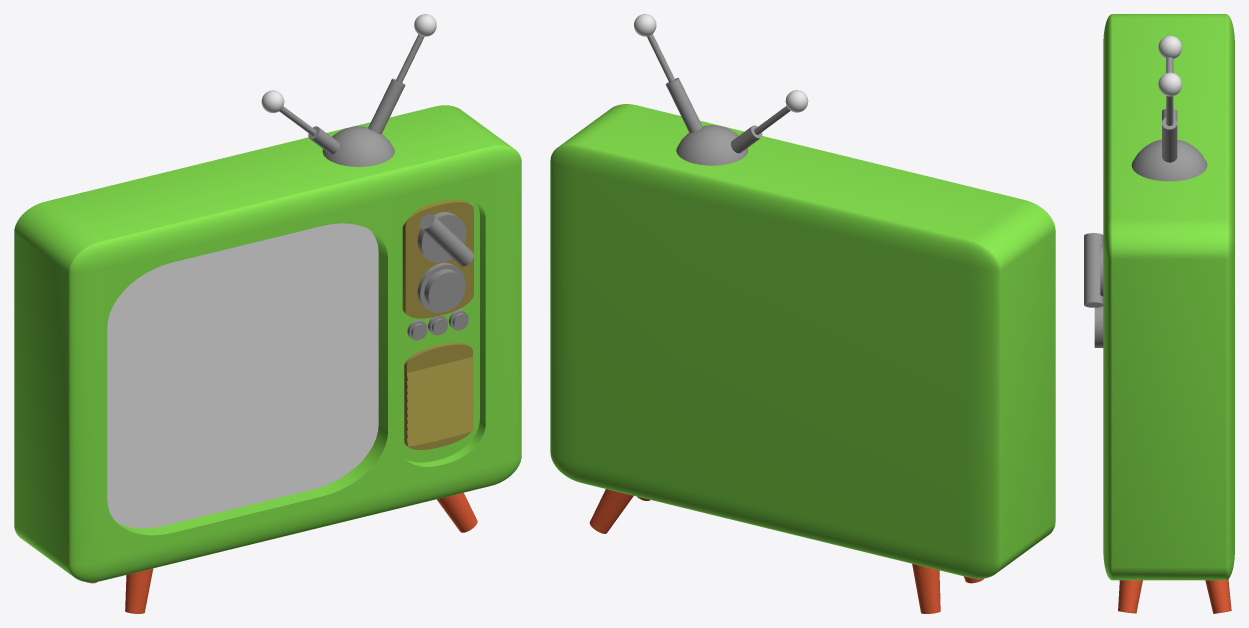
File: TV 3d cartoon.fbx
3 renders of one model, left to right at view 1: azimuth 30°, elevation 25°; view 2: azimuth 150°, elevation 25°; view 3: azimuth 270°, elevation 25°, orthographic. The views are drawn at different scales.
Parts seen in each view (by area): view 1: Cube, Plane, Sphere, Cylinder.007, Cylinder.001, Cylinder.008, Cylinder.006, Cylinder.002, Cylinder.004, Cylinder; view 2: Cube, Sphere, Cylinder.001, Cylinder.003, Cylinder.005, Cylinder; view 3: Cube, Sphere, Cylinder.008, Cylinder.001, Cylinder.005, Cylinder.004, Sphere.001, Sphere.002, Cylinder.007, Cylinder.
Boxes of the visible parts, x1,y1,x2,y2 form: Cube: (14,105,521,582); Plane: (107,223,378,528); Sphere: (322,126,394,166); Cylinder.007: (417,263,465,312); Cylinder.001: (368,34,424,134); Cylinder.008: (419,213,473,266); Cylinder.006: (417,212,466,263); Cylinder.002: (125,568,153,613); Cylinder.004: (437,492,477,532); Cylinder: (279,106,339,154); Cube: (550,104,1055,578); Sphere: (676,125,747,165); Cylinder.001: (647,34,702,133); Cylinder.003: (912,563,940,613); Cylinder.005: (589,489,633,533); Cylinder: (731,106,790,153); Cube: (1103,14,1234,580); Sphere: (1131,139,1207,181); Cylinder.008: (1084,233,1103,307); Cylinder.001: (1162,96,1177,162); Cylinder.005: (1205,579,1231,613); Cylinder.004: (1118,580,1142,613); Sphere.001: (1158,72,1182,96); Sphere.002: (1158,35,1182,58); Cylinder.007: (1094,306,1103,347); Cylinder: (1162,57,1177,121).
Size of the model in its own units: 279 by 299 by 76.64.
